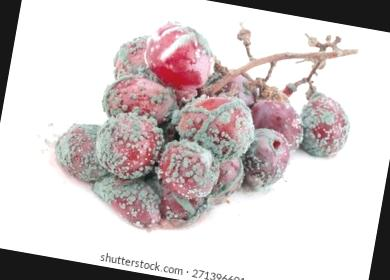Grape Rotten: (42, 1, 364, 262)
